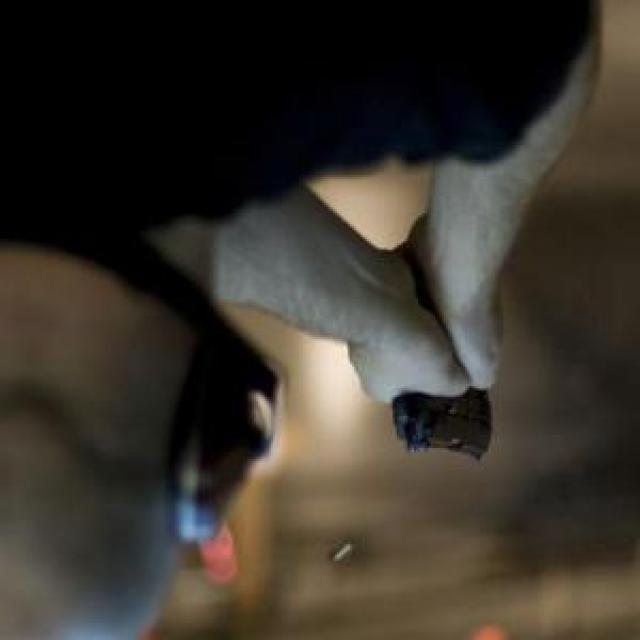pistol: (397, 255, 495, 467)
